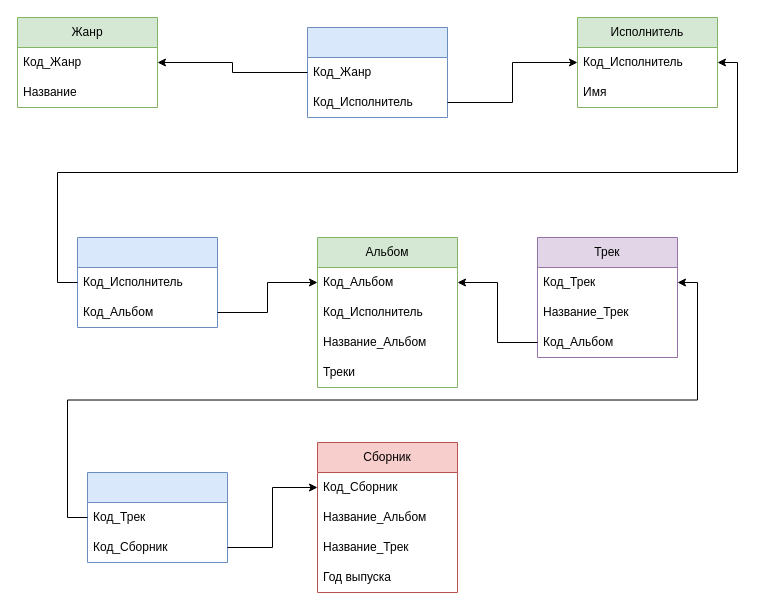
This 763x610 diagram has some shape labels left out. Here are the shapes that lost their labels. From the top down, the box of each, then its label:
(306, 26, 448, 118): Жанр-Исполнитель
(76, 236, 218, 328): Исполнитель_Альбом
(86, 472, 228, 562): Сброник Треков
